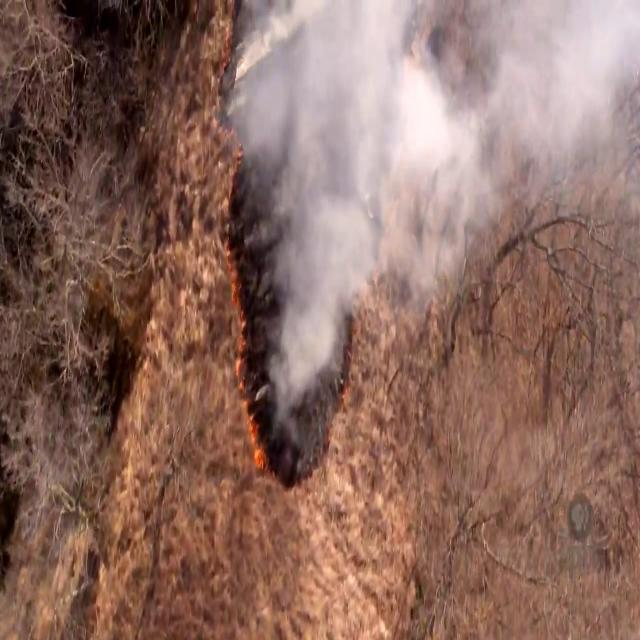Smoke: (214, 0, 640, 445)
